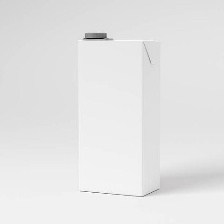carton: (74, 30, 167, 198)
